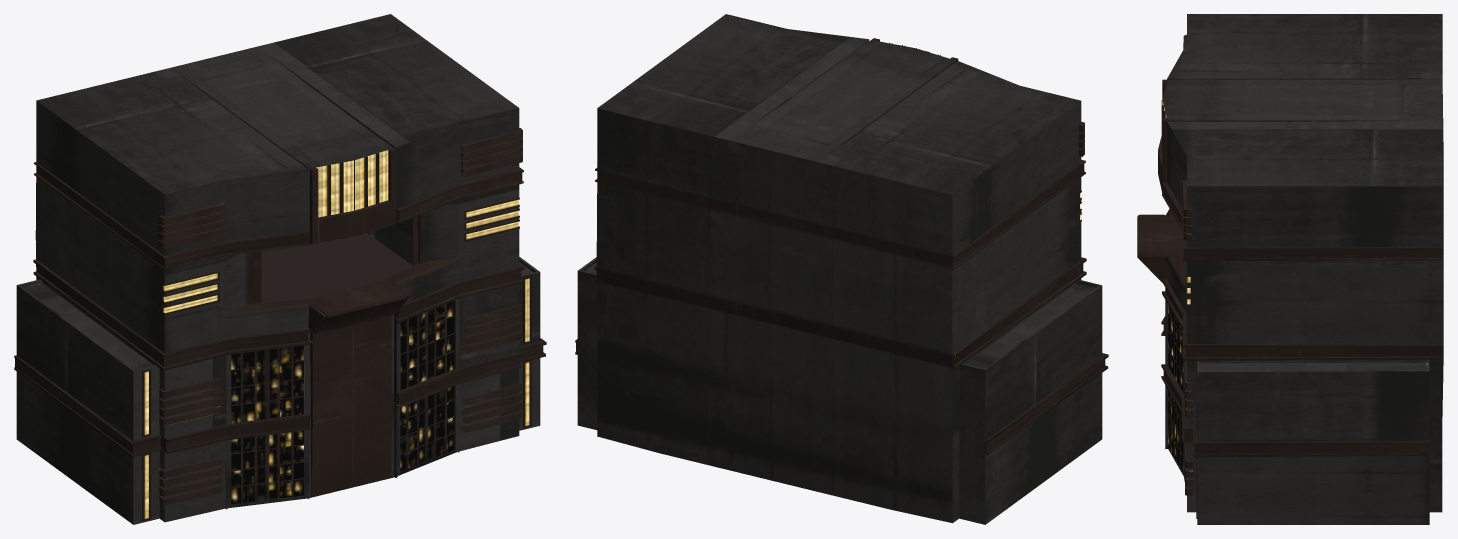
File: Predio3.fbx
The picture shows the model from 3 angles, left to right: view 1: azimuth 30°, elevation 25°; view 2: azimuth 150°, elevation 25°; view 3: azimuth 270°, elevation 25°; orthographic projection.
Visible parts, largest first — view 1: Cube.002; view 2: Cube.002; view 3: Cube.002.
Boxes of the visible parts, box(x1,y1,x2,y2) form: Cube.002: box(14, 14, 546, 524); Cube.002: box(575, 14, 1108, 524); Cube.002: box(1137, 14, 1443, 524).
Bounding box in the file's own units: 41765 × 31692 × 26843.
3 materials, 3 textured.
